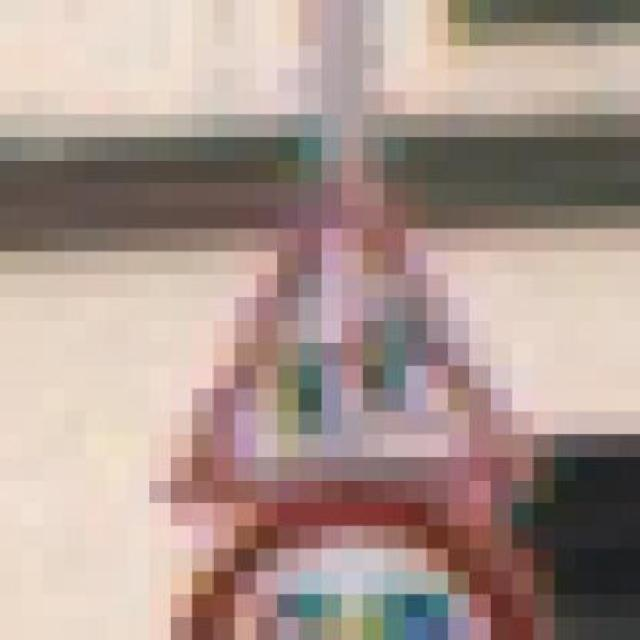Beware of children: (107, 137, 555, 526)
